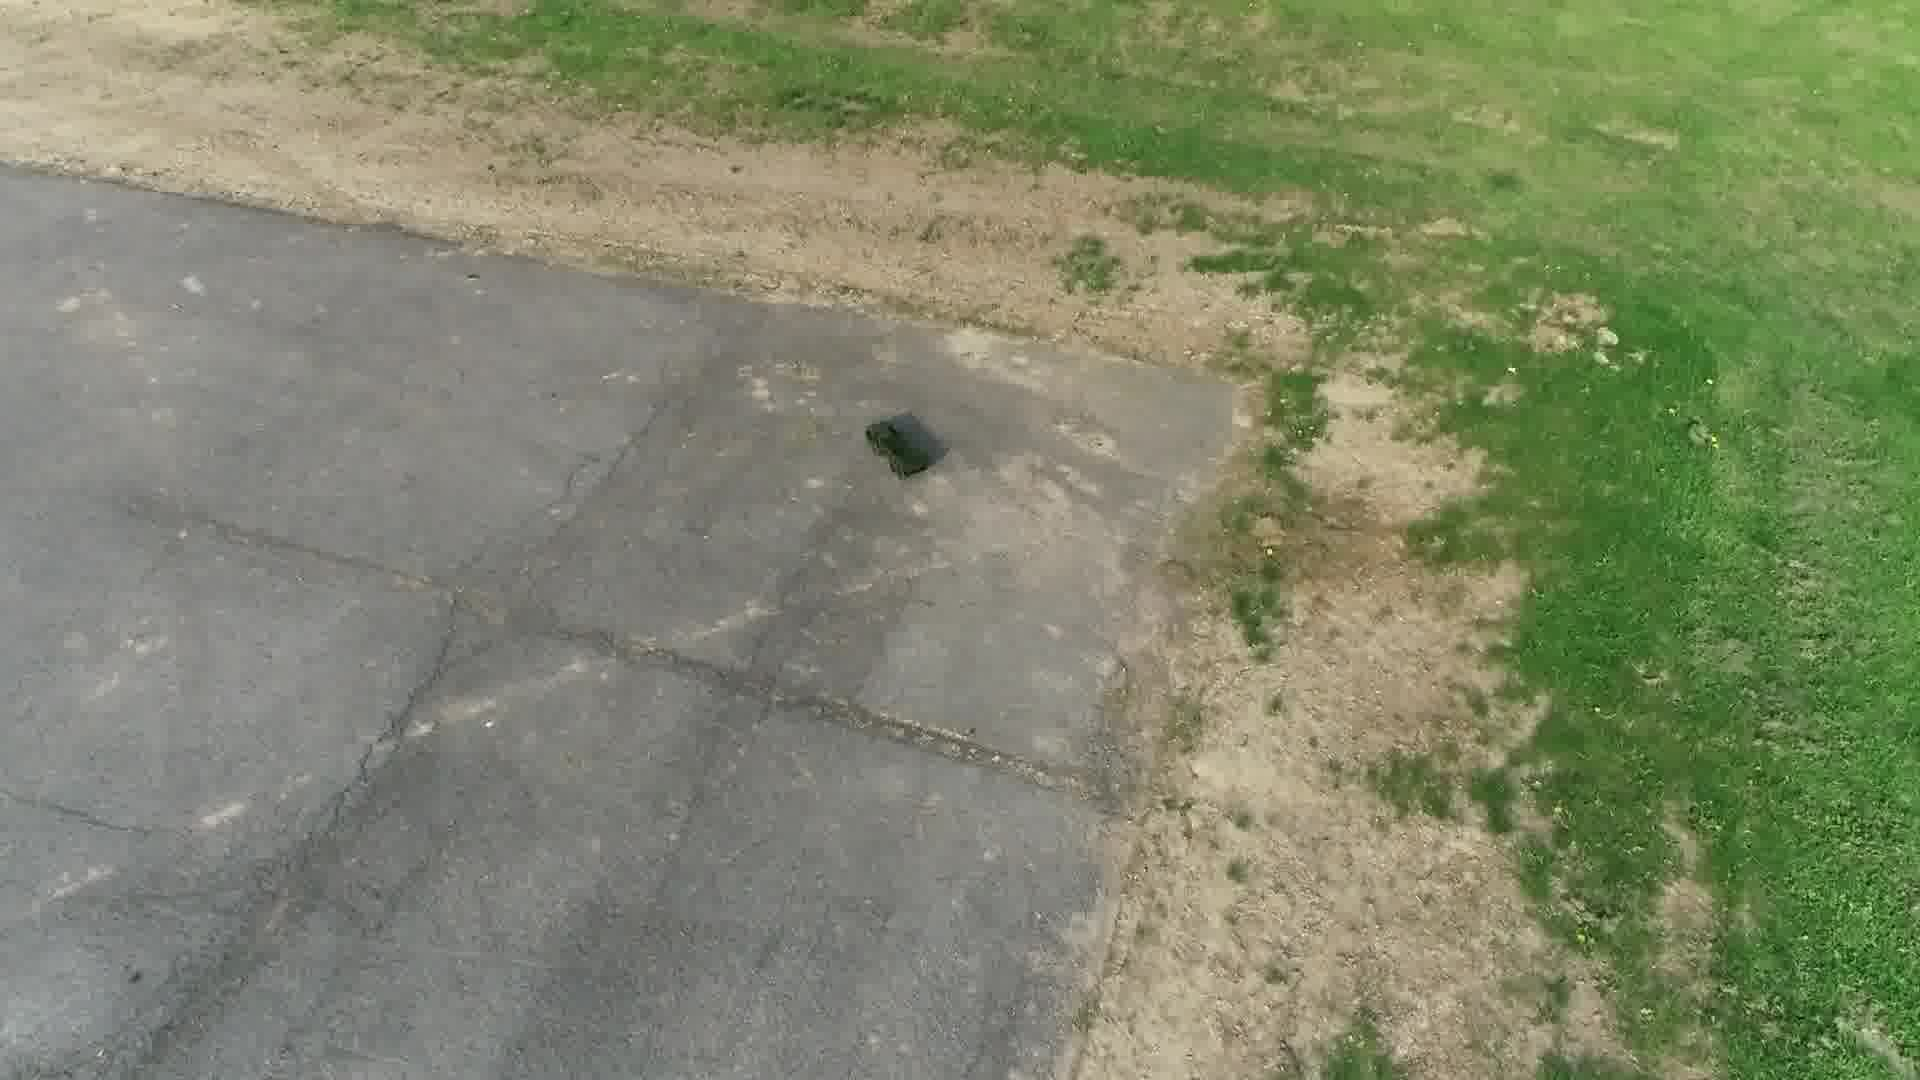transporter9: (862, 417, 928, 483)
